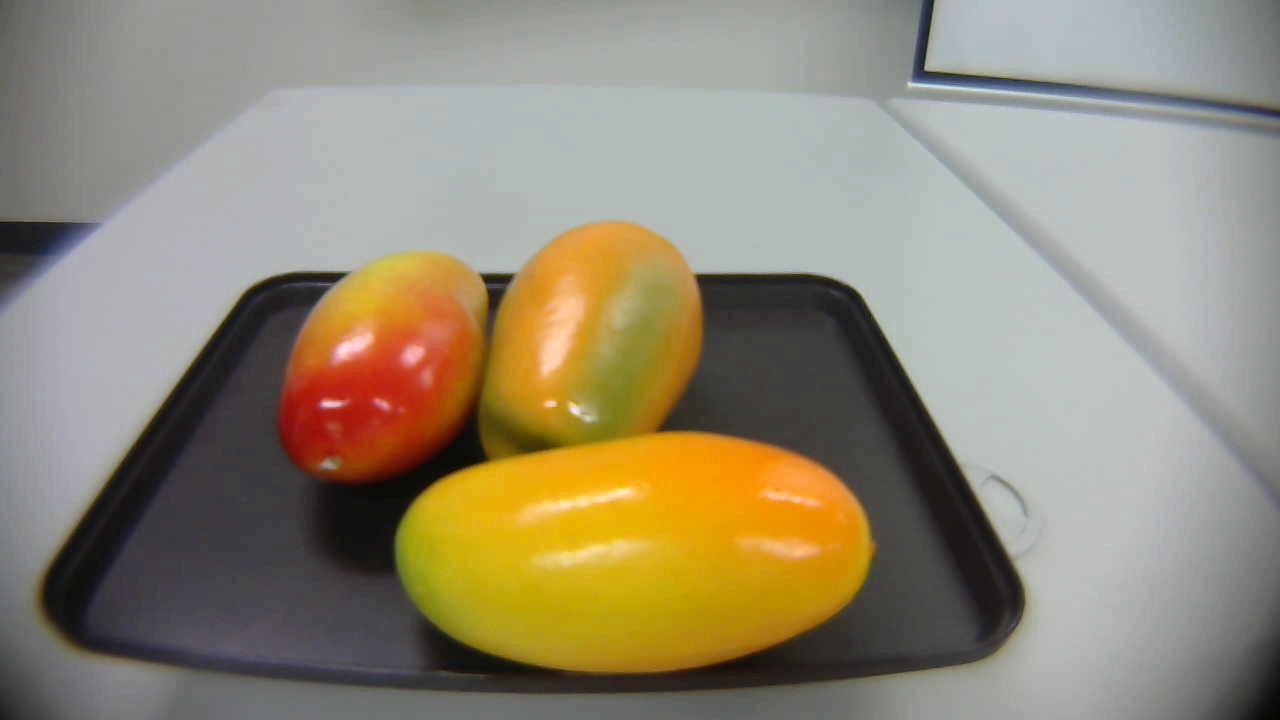papya: (470, 216, 705, 482)
red mango: (267, 250, 486, 487)
yellow mango: (384, 435, 881, 668)
